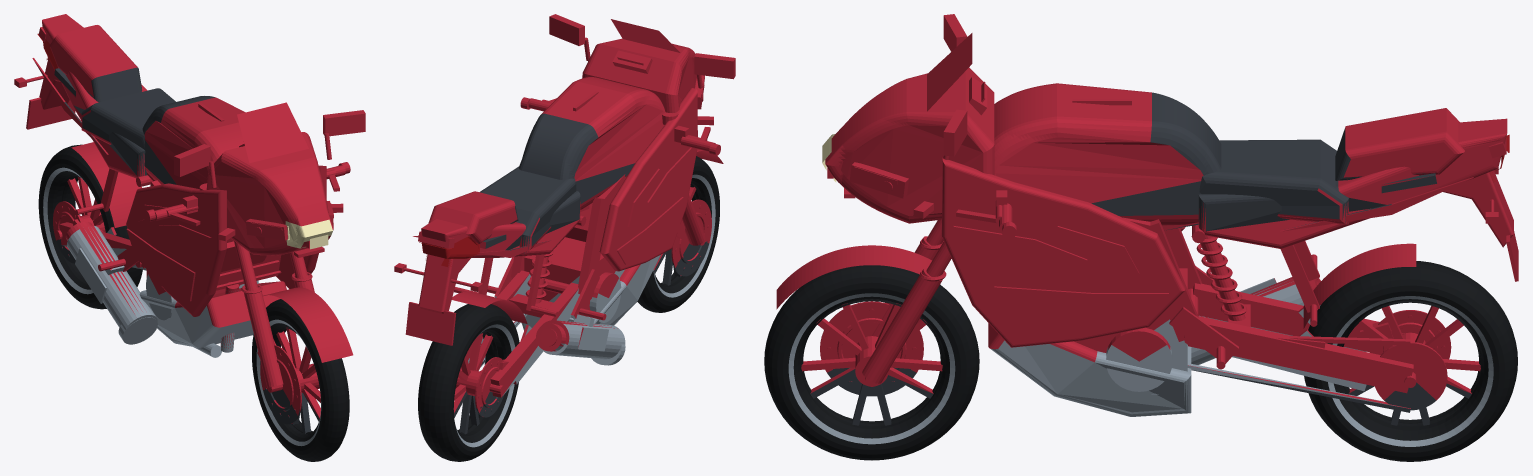
File: moto.obj
3 views of the same model, side by side, from view 1: azimuth 30°, elevation 25°; view 2: azimuth 150°, elevation 25°; view 3: azimuth 270°, elevation 25° (orthographic). The views are drawn at different scales.
Parts seen in each view (by area): view 1: moto; view 2: moto; view 3: moto.
Boxes of the visible parts, x1,y1,x2,y2 form: moto: (14,14,365,461); moto: (394,14,735,461); moto: (764,14,1518,461).
Size of the model in its own units: 0.85 by 1.29 by 2.15.
